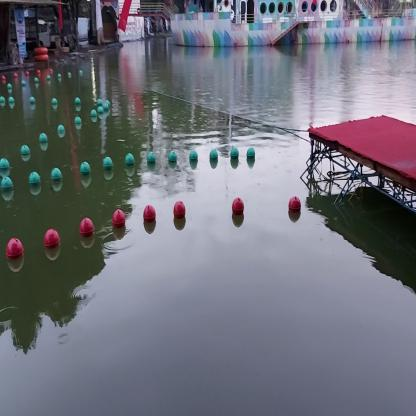green_buoy: (29, 166, 42, 194), (0, 176, 14, 198), (79, 160, 91, 179), (38, 130, 50, 147), (102, 156, 114, 173), (53, 170, 64, 188), (166, 152, 179, 166), (125, 155, 136, 171), (247, 145, 256, 164), (230, 145, 240, 162), (212, 145, 219, 167), (147, 151, 156, 168), (22, 142, 31, 158), (191, 148, 199, 166), (2, 160, 10, 177), (57, 126, 63, 136)
red_buoy: (7, 241, 24, 266), (45, 230, 60, 255), (81, 218, 94, 246), (112, 206, 125, 232), (230, 198, 244, 219), (173, 198, 185, 221), (288, 196, 300, 218), (145, 206, 156, 225)
